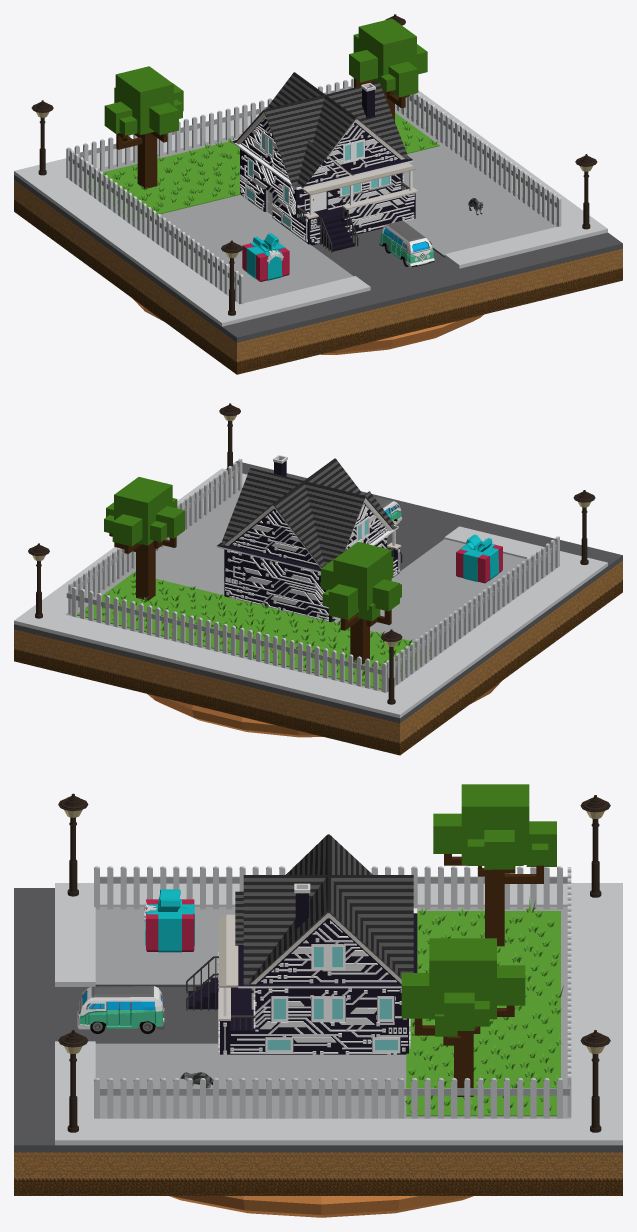
3 renders of one model, top to bottom at view 1: azimuth 30°, elevation 25°; view 2: azimuth 150°, elevation 25°; view 3: azimuth 270°, elevation 25°, orthographic. The views are drawn at different scales.
Visible parts, largest first — view 1: Cube.004, Cube.918, OBJRANDOM_GIANT_PRESENT, VEHICLES_VAN, UNDERGROUND_PIZZA; view 2: Cube.004, Cube.918, UNDERGROUND_PIZZA, OBJRANDOM_GIANT_PRESENT; view 3: Cube.004, Cube.918, UNDERGROUND_PIZZA, VEHICLES_VAN, OBJRANDOM_GIANT_PRESENT.
Part boxes in pixels (x1,y1,x2,y2): Cube.004: (14, 14, 622, 374); Cube.918: (231, 72, 418, 252); OBJRANDOM_GIANT_PRESENT: (242, 233, 289, 281); VEHICLES_VAN: (379, 221, 434, 267); UNDERGROUND_PIZZA: (132, 298, 483, 354); Cube.004: (14, 403, 622, 755); Cube.918: (216, 455, 402, 622); UNDERGROUND_PIZZA: (147, 681, 501, 737); OBJRANDOM_GIANT_PRESENT: (456, 534, 502, 583); Cube.004: (14, 784, 622, 1195); Cube.918: (186, 834, 417, 1054); UNDERGROUND_PIZZA: (169, 1196, 473, 1217); VEHICLES_VAN: (77, 986, 164, 1033); OBJRANDOM_GIANT_PRESENT: (144, 889, 194, 952).
Bounding box in the file's own units: 4000 × 1812 × 4000.
Materials: 40 (3 with a texture image).
